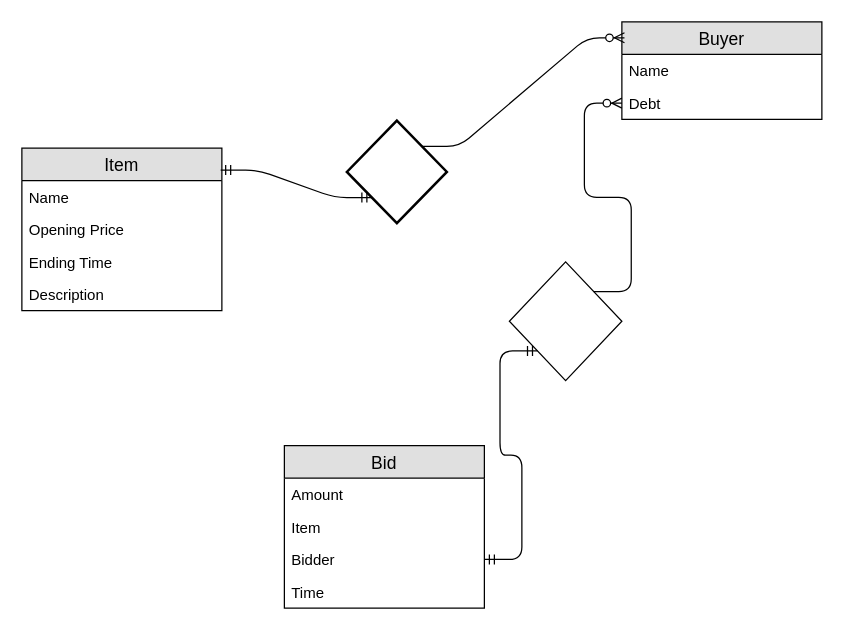
Some shapes in this 844 by 634 pixel diagram are drawn without their labels. Here are the shapes that lost their labels. From the top down, the centre of each, then its label:
At (x=396, y=171): "Owns".
At (x=565, y=321): "Submits".
